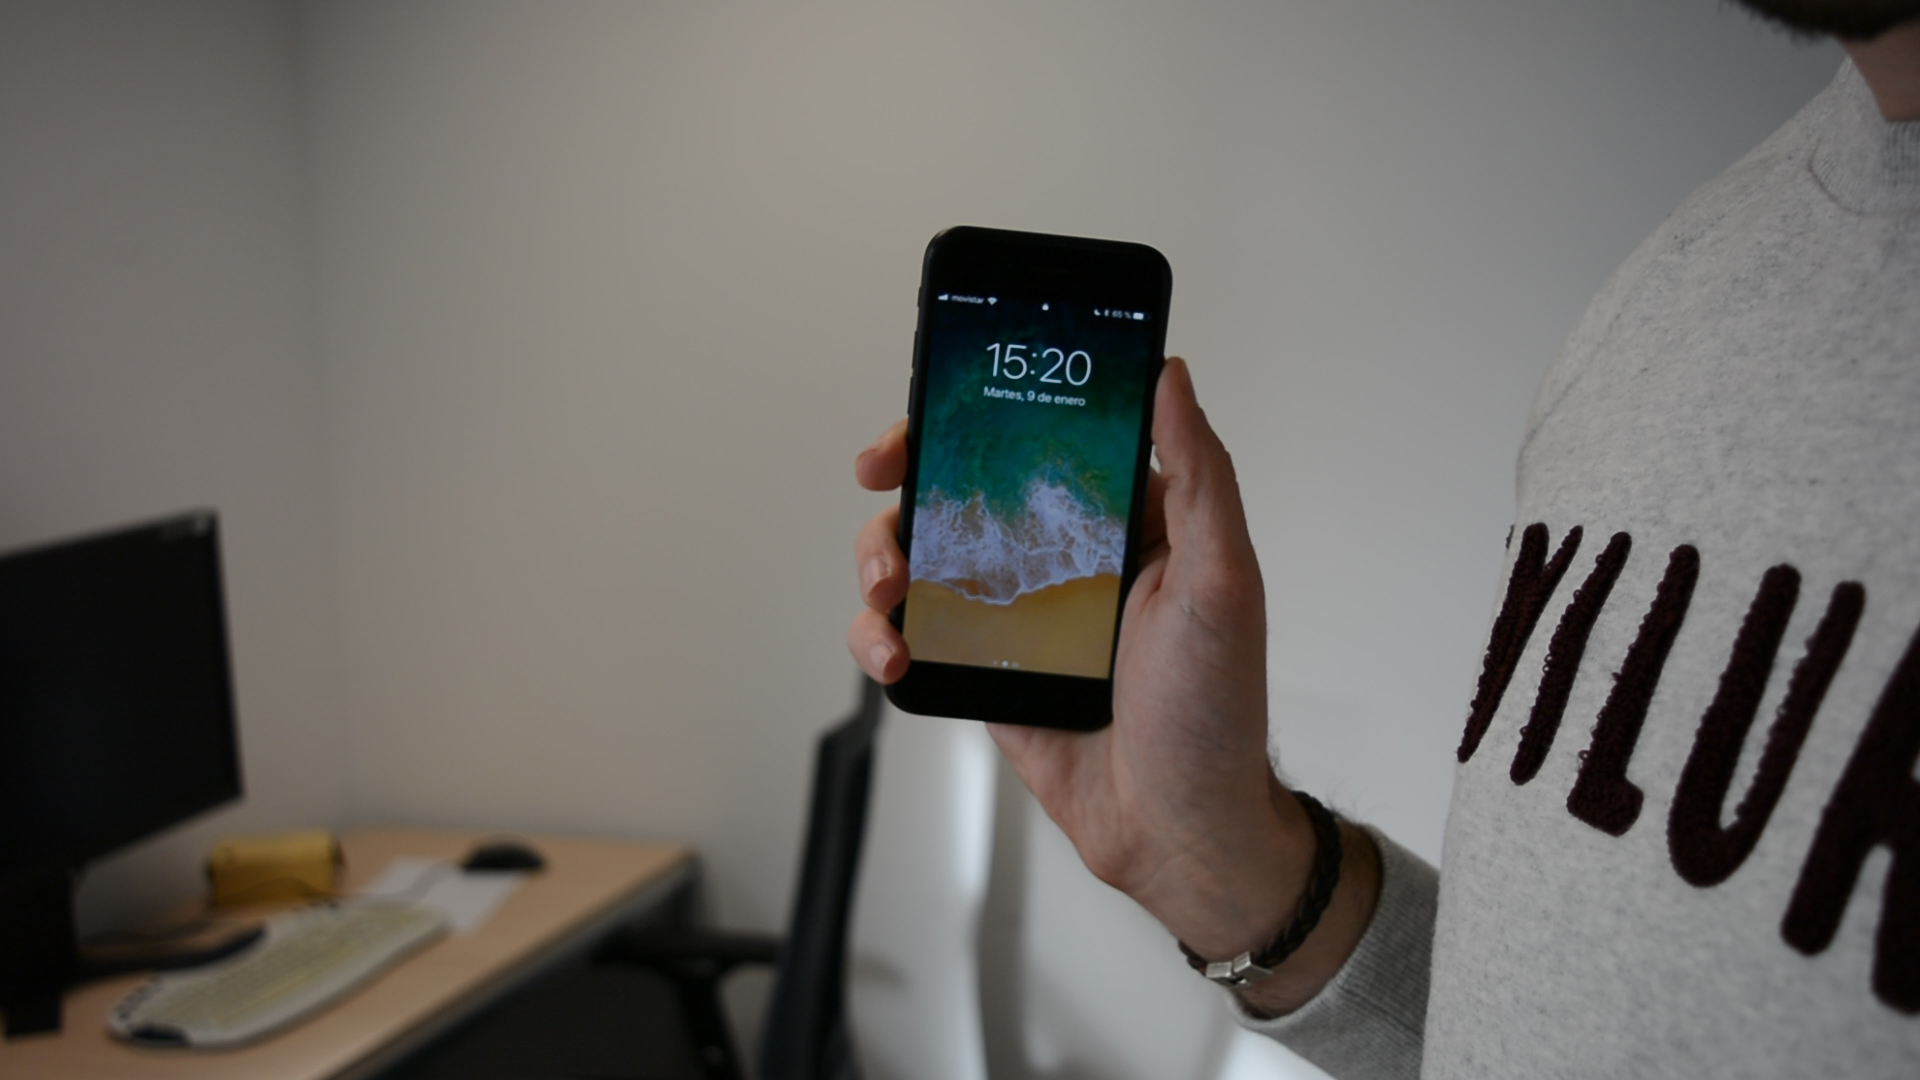smartphone: (880, 222, 1176, 737)
